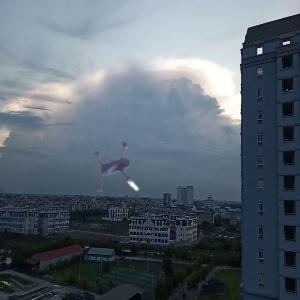drone: (79, 135, 159, 215)
